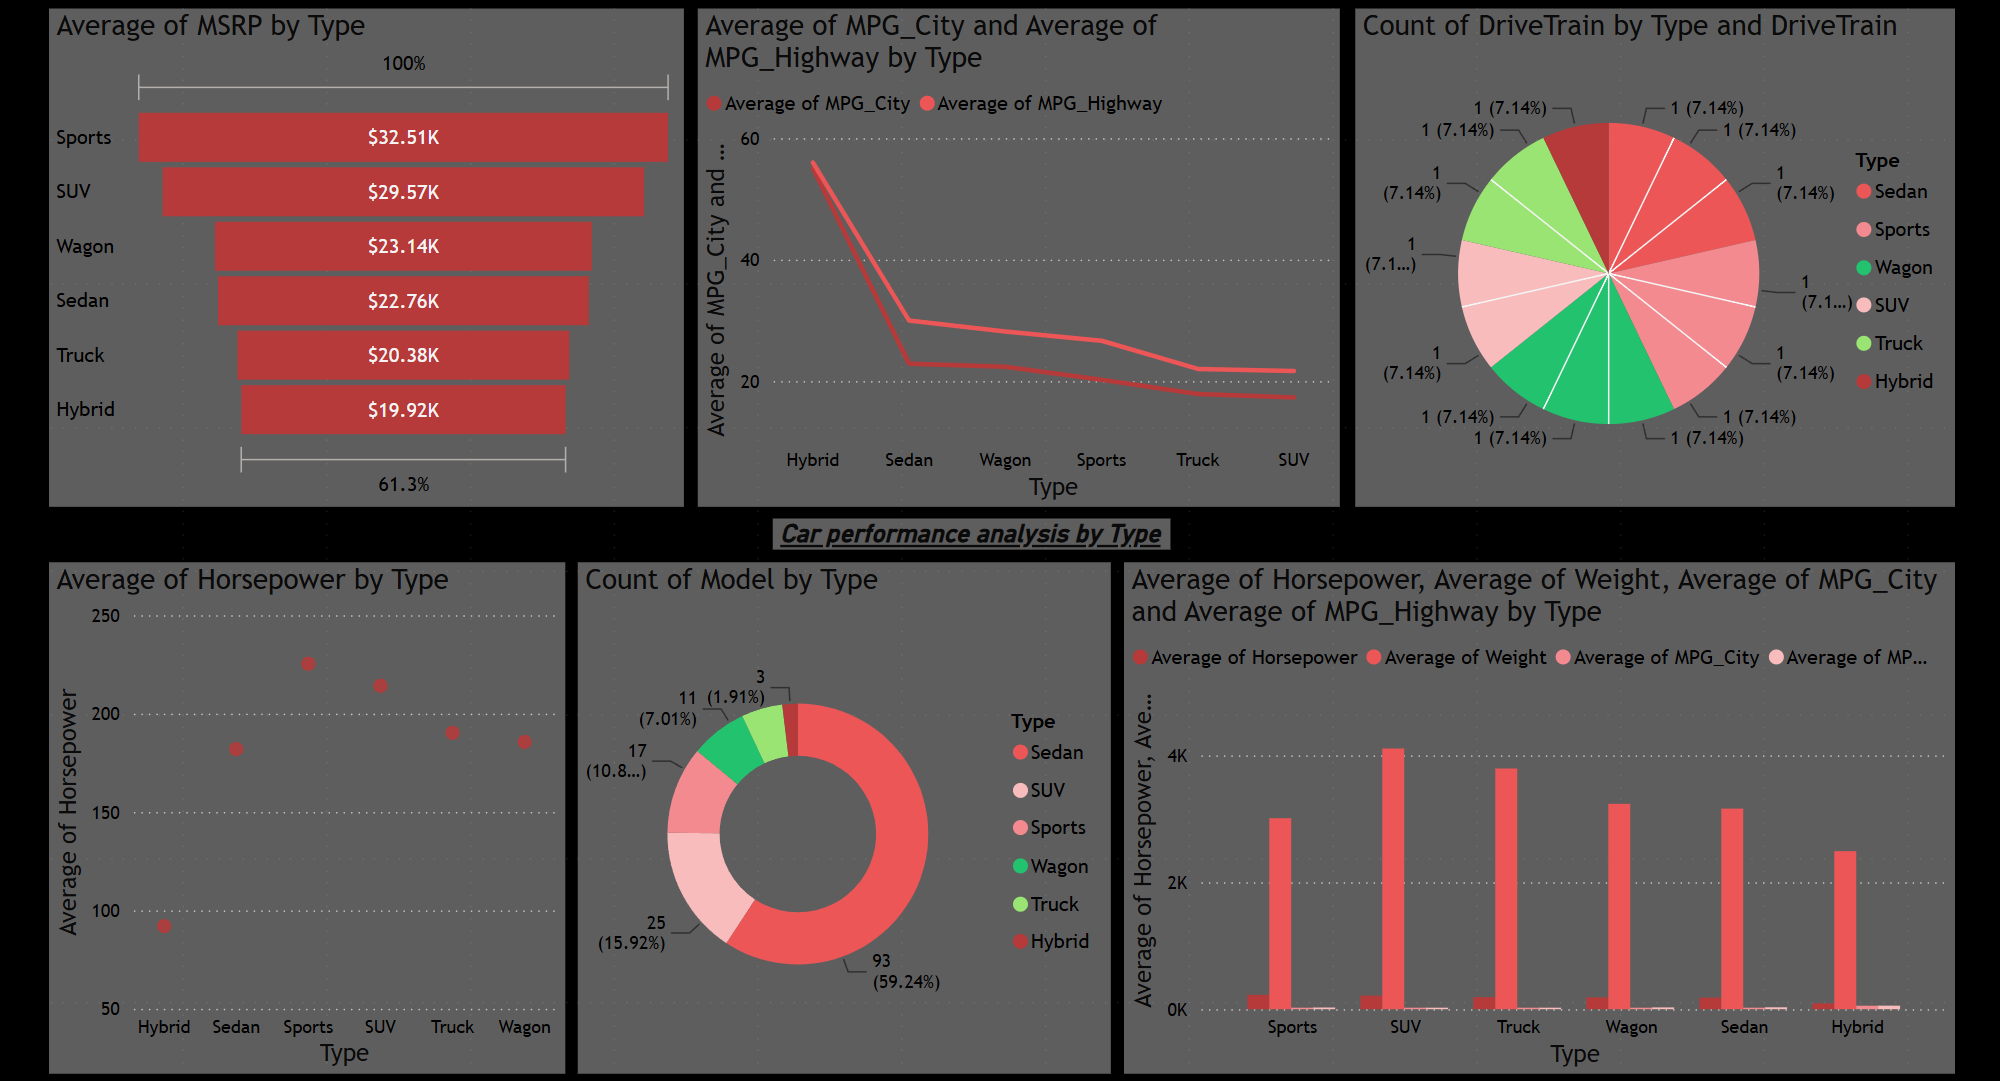

The dashboard page shown, as its layout file describes it:
{"tool":"powerbi","page":{"name":"Page 2","canvas":[1280,720],"ordinal":1},"visuals":[{"type":"funnel","fields":{"Category":["CARS.Type"],"Y":["Avg(CARS.MSRP)"]},"box":[6.4,8.2,423.6,332.7],"z":0},{"type":"scatterChart","fields":{"X":["CARS.Type"],"Y":["Avg(CARS.Horsepower)"]},"box":[6.4,378.2,344.5,341.8],"z":1000},{"type":"lineChart","fields":{"Category":["CARS.Type"],"Y":["Avg(CARS.MPG_City)","Avg(CARS.MPG_Highway)"]},"box":[440,8.2,429.1,332.7],"z":2000},{"type":"clusteredColumnChart","fields":{"Category":["CARS.Type"],"Y":["Avg(CARS.Horsepower)","Avg(CARS.Weight)","Avg(CARS.MPG_City)","Avg(CARS.MPG_Highway)"]},"box":[724.5,378.2,555.5,341.8],"z":3000},{"type":"pieChart","fields":{"Category":["CARS.Type"],"Y":["Count(CARS.DriveTrain)"],"Series":["CARS.DriveTrain"]},"box":[879.1,8.2,400.9,332.7],"z":4000},{"type":"donutChart","fields":{"Category":["CARS.Type"],"Y":["Count(CARS.Model)"]},"box":[360,378.2,356.4,341.8],"z":5000},{"type":"actionButton","box":[0,0,100,40],"z":6000},{"type":"textbox","title":"Car performance analysis by Type","box":[490,348.9,265.5,20.9],"z":7000}]}

Visuals, with their boxes in screenshot pixels (x1, y1, x2, y2):
funnel - CARS.Type x Avg(CARS.MSRP): 51,12,680,506
scatterChart - CARS.Type x Avg(CARS.Horsepower): 51,561,562,1068
lineChart - CARS.Type x Avg(CARS.MPG_City): 695,12,1331,506
clusteredColumnChart - CARS.Type x Avg(CARS.Horsepower): 1117,561,1941,1068
pieChart - CARS.Type x Count(CARS.DriveTrain): 1346,12,1941,506
donutChart - CARS.Type x Count(CARS.Model): 576,561,1105,1068
actionButton: 42,0,190,59
"Car performance analysis by Type" textbox: 769,518,1163,549
